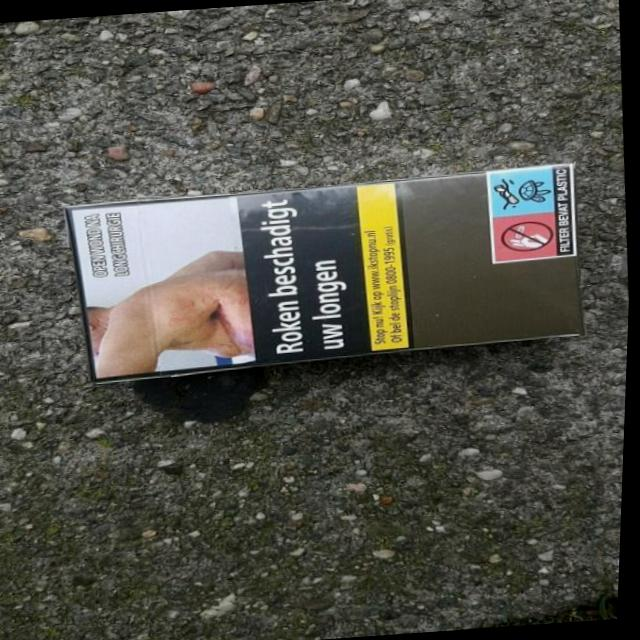Paper: (54, 156, 599, 390)
